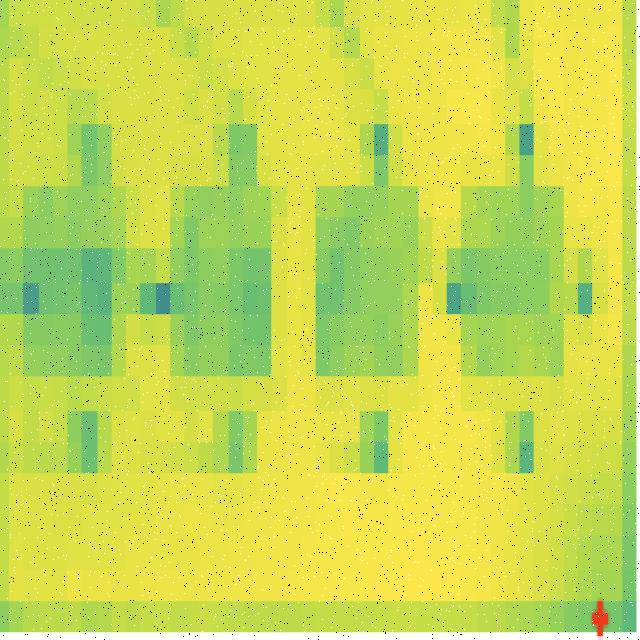Concrete: (456, 150, 580, 414)
Glass: (307, 136, 436, 429)
Metal: (10, 140, 135, 414)
Wood: (161, 135, 286, 431)
